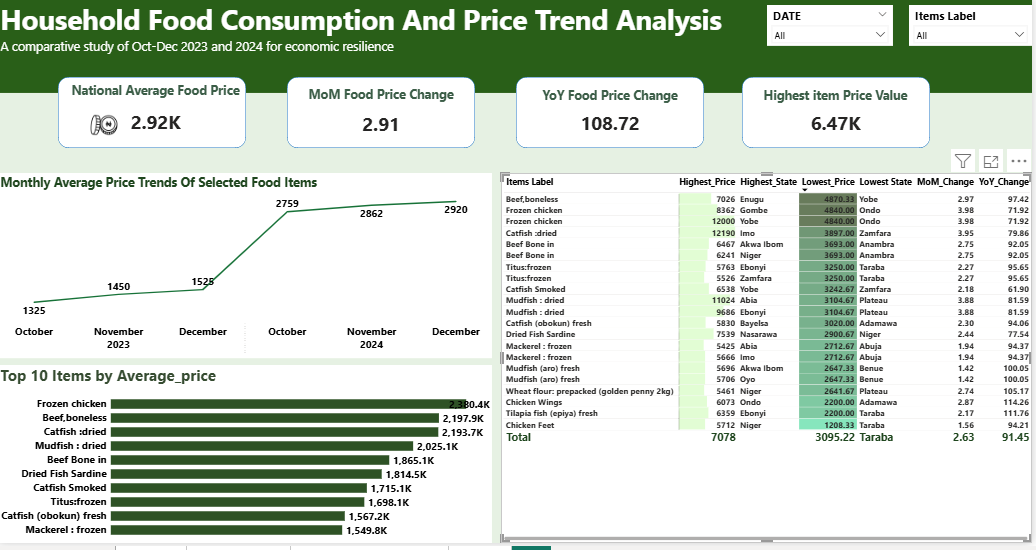

This screenshot's page, from the dashboard's own definition file:
{"tool":"powerbi","page":{"name":"MAIN PAGE","canvas":[2200,1160],"ordinal":1},"visuals":[{"type":"textbox","box":[0,0,2200,202.1],"z":0},{"type":"shape","box":[127.7,168.1,400,151.1],"z":1000},{"type":"card","title":"National Average Food Price","fields":{"Values":["MeasureTable.Latest Overall Average Price"]},"box":[142.6,176.6,385.1,136.2],"z":2000},{"type":"shape","box":[614.9,168.1,400,151.1],"z":3000},{"type":"shape","box":[1102.1,168.1,400,151.1],"z":4000},{"type":"shape","box":[1583,168.1,400,151.1],"z":5000},{"type":"image","box":[176.6,236.2,97.9,68.1],"z":6000},{"type":"card","title":"MoM Food Price Change","fields":{"Values":["MeasureTable.Latest Overall MoM Change"]},"box":[619.1,185.1,391.5,127.7],"z":7000},{"type":"card","title":"YoY Food Price Change","fields":{"Values":["MeasureTable.Latest Overall YoY Change"]},"box":[1123.4,187.2,357.4,121.3],"z":8000},{"type":"card","title":"Highest item Price Value","fields":{"Values":["MeasureTable.Highest Item Price Value"]},"box":[1610.6,187.2,342.6,121.3],"z":9000},{"type":"lineChart","title":"Monthly Average Price Trends Of Selected Food Items","fields":{"Y":["Avg(FOODITEMS.Average_price)"],"Category":["FOODITEMS.Date.Variation.Date Hierarchy.Year","FOODITEMS.Date.Variation.Date Hierarchy.Month"]},"box":[0,372.3,1051.1,393.6],"z":10000},{"type":"clusteredBarChart","title":"Top 10 Items by Average_price ","fields":{"Category":["FOODITEMS.Items Label"],"Y":["Avg(FOODITEMS.Average_price)"]},"box":[0,780.9,1051.1,378.7],"z":11000},{"type":"tableEx","fields":{"Values":["FOODITEMS.Items Label","Avg(FOODITEMS.Highest_Price)","FOODITEMS.Highest_State","Avg(FOODITEMS.Lowest_Price)","FOODITEMS.Lowest State","Avg(FOODITEMS.MoM_Change)","Avg(FOODITEMS.YoY_Change)"]},"box":[1070.2,372.3,1129.8,787.2],"z":12000},{"type":"slicer","fields":{"Values":["FOODITEMS.Date.Variation.Date Hierarchy.Year","FOODITEMS.Date.Variation.Date Hierarchy.Quarter","FOODITEMS.Date.Variation.Date Hierarchy.Month","FOODITEMS.Date.Variation.Date Hierarchy.Day"]},"box":[1636.2,14.9,268.1,87.2],"z":13000},{"type":"slicer","fields":{"Values":["FOODITEMS.Items Label"]},"box":[1938.3,14.9,261.7,87.2],"z":14000}]}

Visuals, with their boxes in screenshot pixels (x1, y1, x2, y2), scaled from the page's 2200x1160 canvas onto the 1036x550 screenshot:
textbox: 0, 0, 1035, 96
shape: 60, 80, 248, 151
"National Average Food Price" card: 67, 84, 248, 148
shape: 290, 80, 478, 151
shape: 519, 80, 707, 151
shape: 745, 80, 934, 151
image: 83, 112, 129, 144
"MoM Food Price Change" card: 292, 88, 476, 148
"YoY Food Price Change" card: 529, 89, 697, 146
"Highest item Price Value" card: 758, 89, 920, 146
"Monthly Average Price Trends Of Selected Food Items" lineChart: 0, 177, 495, 363
"Top 10 Items by Average_price " clusteredBarChart: 0, 370, 495, 549
tableEx - FOODITEMS.Items Label x Avg(FOODITEMS.Highest_Price): 504, 177, 1035, 549
slicer - FOODITEMS.Date.Variation.Date Hierarchy.Year x FOODITEMS.Date.Variation.Date Hierarchy.Quarter: 771, 7, 897, 48
slicer - FOODITEMS.Items Label: 913, 7, 1035, 48
